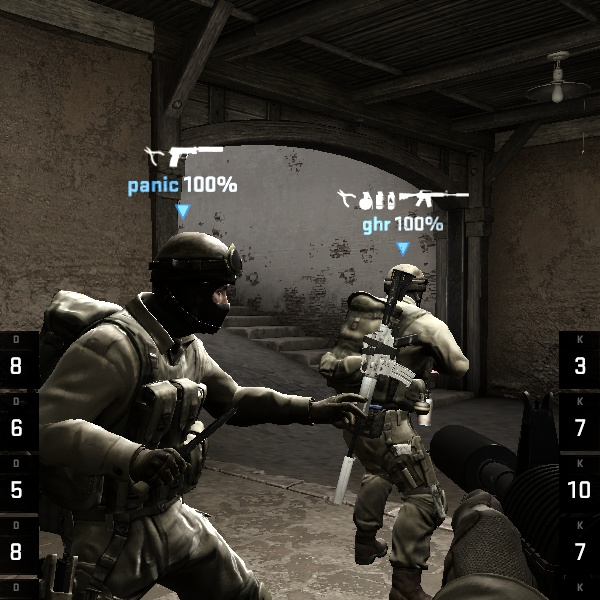ct_body: (30, 228, 285, 600), (314, 258, 494, 579)
ct_head: (131, 226, 251, 333), (365, 262, 434, 327)
